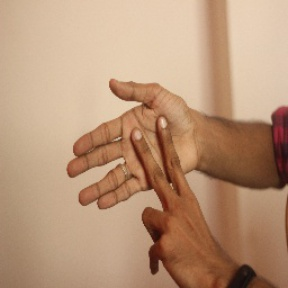N: (60, 76, 218, 277)
